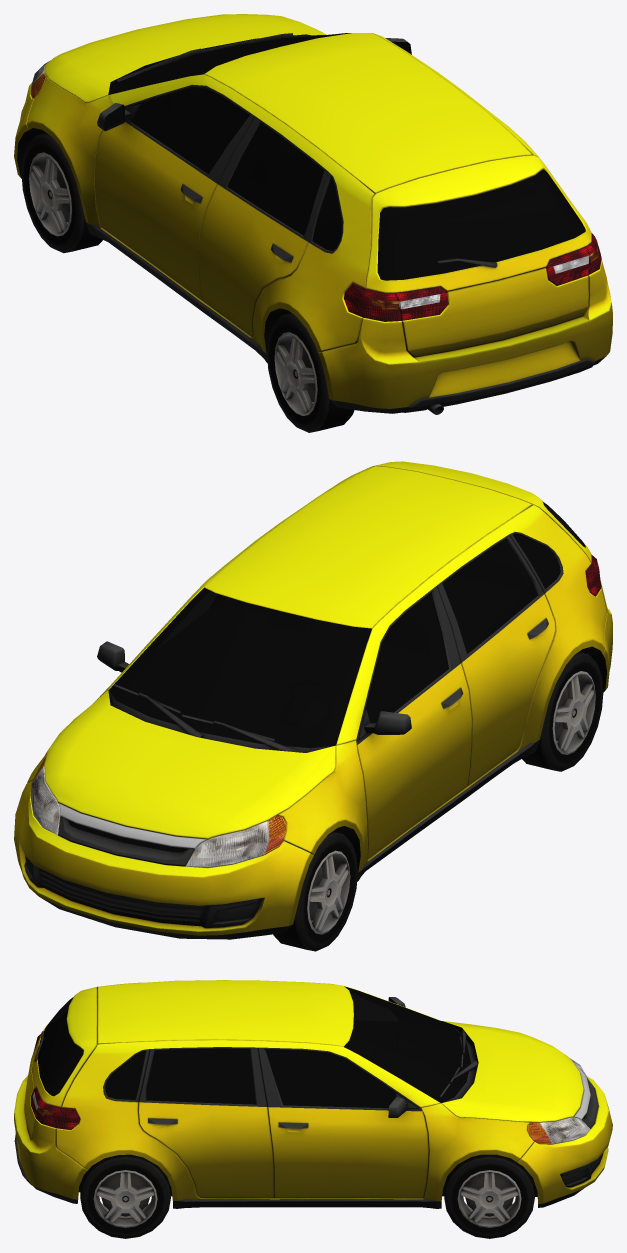
The model's file is hatchback.glb.
3 renders of one model, top to bottom at view 1: azimuth 30°, elevation 25°; view 2: azimuth 150°, elevation 25°; view 3: azimuth 270°, elevation 25°, orthographic. The views are drawn at different scales.
Parts seen in each view (by area): view 1: body, wheel_rl, wheel_fl; view 2: body, wheel_fl, wheel_rl; view 3: body, wheel_fr, wheel_rr.
Part boxes in pixels (<box>): body: <box>14,14,612,414</box>; wheel_rl: <box>267,313,354,432</box>; wheel_fl: <box>21,133,102,253</box>; body: <box>14,461,612,939</box>; wheel_fl: <box>273,831,357,951</box>; wheel_rl: <box>522,652,603,771</box>; body: <box>14,980,612,1208</box>; wheel_fr: <box>444,1154,534,1238</box>; wheel_rr: <box>80,1154,170,1238</box>.
Size of the model in its own units: 1.96 by 1.52 by 4.45.
Materials: 4 (3 with a texture image).
